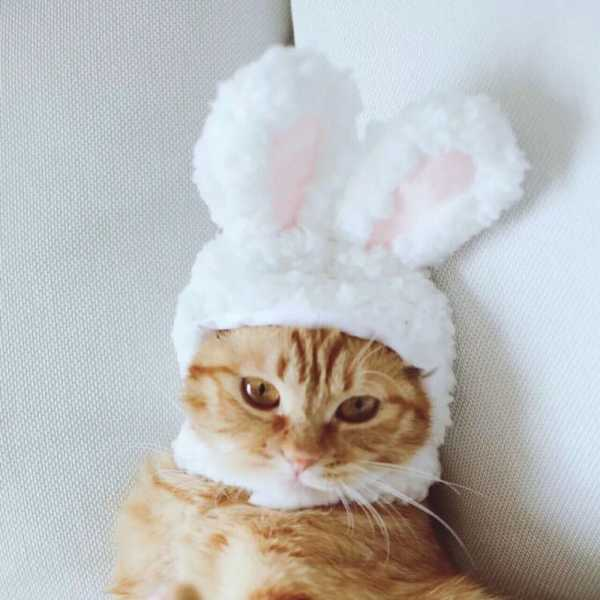cat: (174, 284, 450, 535)
